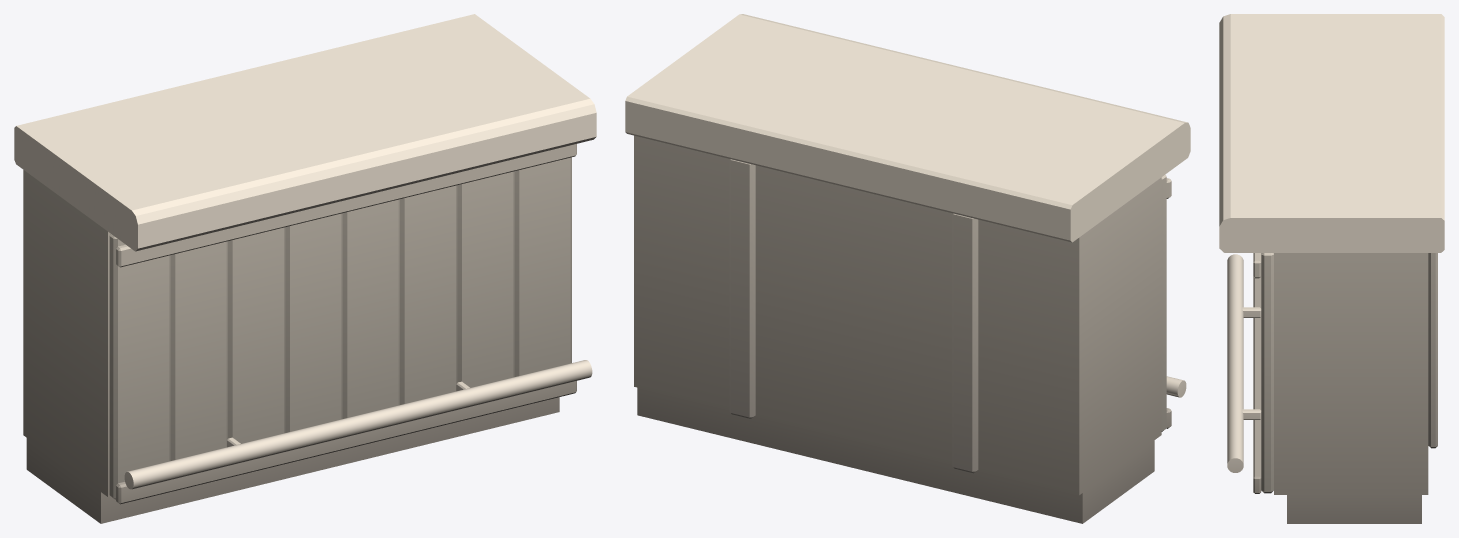
The model's file is SM_VKI_Prop_Bar_Counter_150.fbx.
3 renders of one model, left to right at view 1: azimuth 30°, elevation 25°; view 2: azimuth 150°, elevation 25°; view 3: azimuth 270°, elevation 25°, orthographic. The views are drawn at different scales.
Visible parts, largest first — view 1: SM_VKI_Prop_Bar_Counter_150.001; view 2: SM_VKI_Prop_Bar_Counter_150.001; view 3: SM_VKI_Prop_Bar_Counter_150.001.
Boxes of the visible parts, <box> form: SM_VKI_Prop_Bar_Counter_150.001: <box>14,14,596,523</box>; SM_VKI_Prop_Bar_Counter_150.001: <box>625,14,1190,523</box>; SM_VKI_Prop_Bar_Counter_150.001: <box>1219,14,1444,523</box>.
Bounding box in the file's own units: 1.5 × 1.05 × 0.7.
